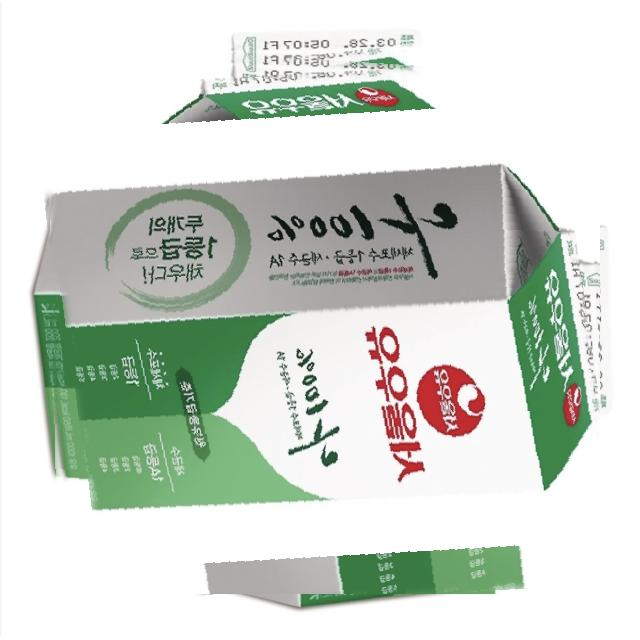biodegradable: (46, 41, 600, 594)
